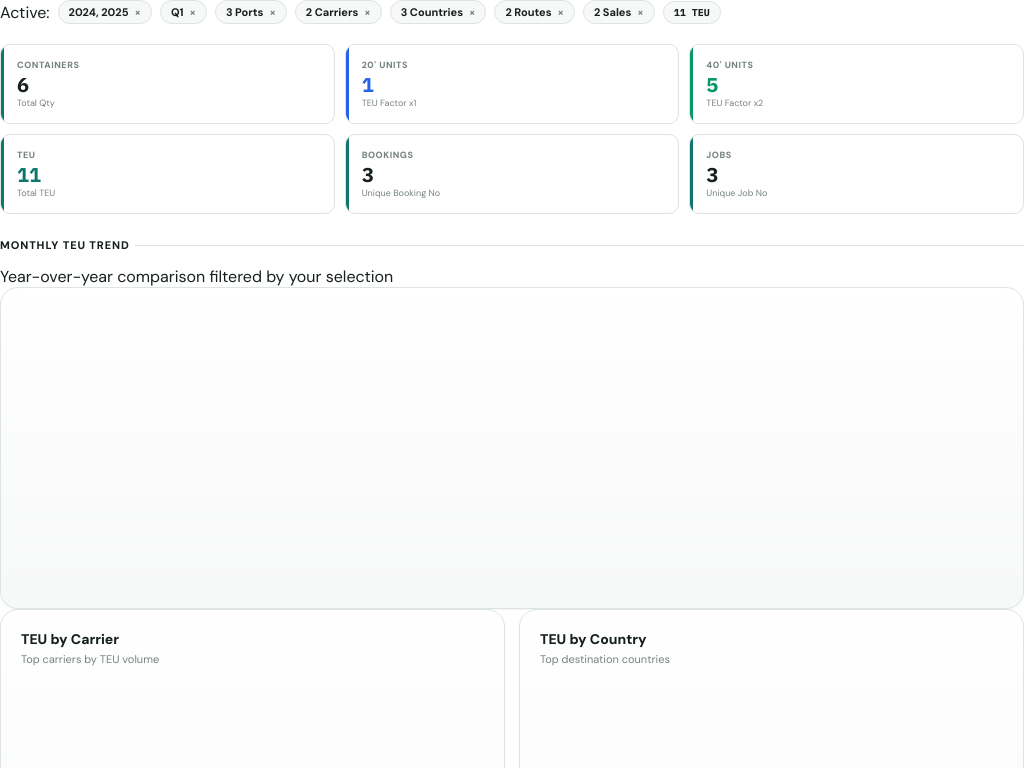
Scenario: AnalyticsPage › clears filter chips and switches ranking tabs
This screenshot has width=1024, height=768.
Click the button named "Clear year filter" at {"x": 138, "y": 12}, box [134, 5, 141, 19]
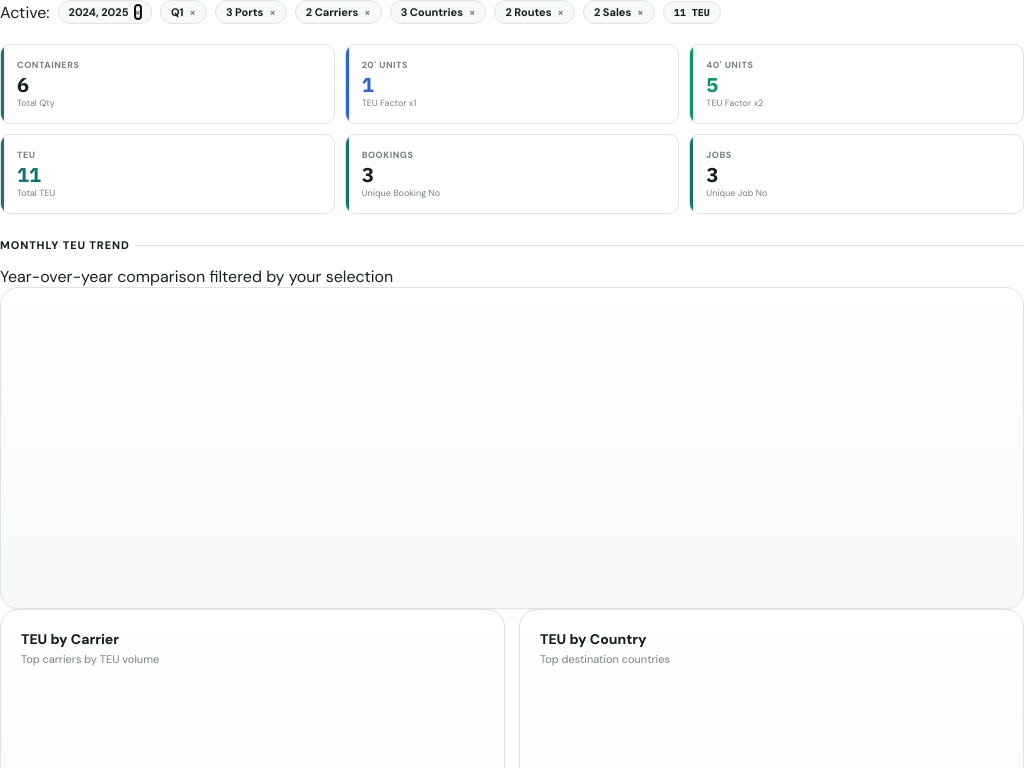
Click the button named "Clear quarter filter" at {"x": 193, "y": 12}, box [190, 5, 196, 19]
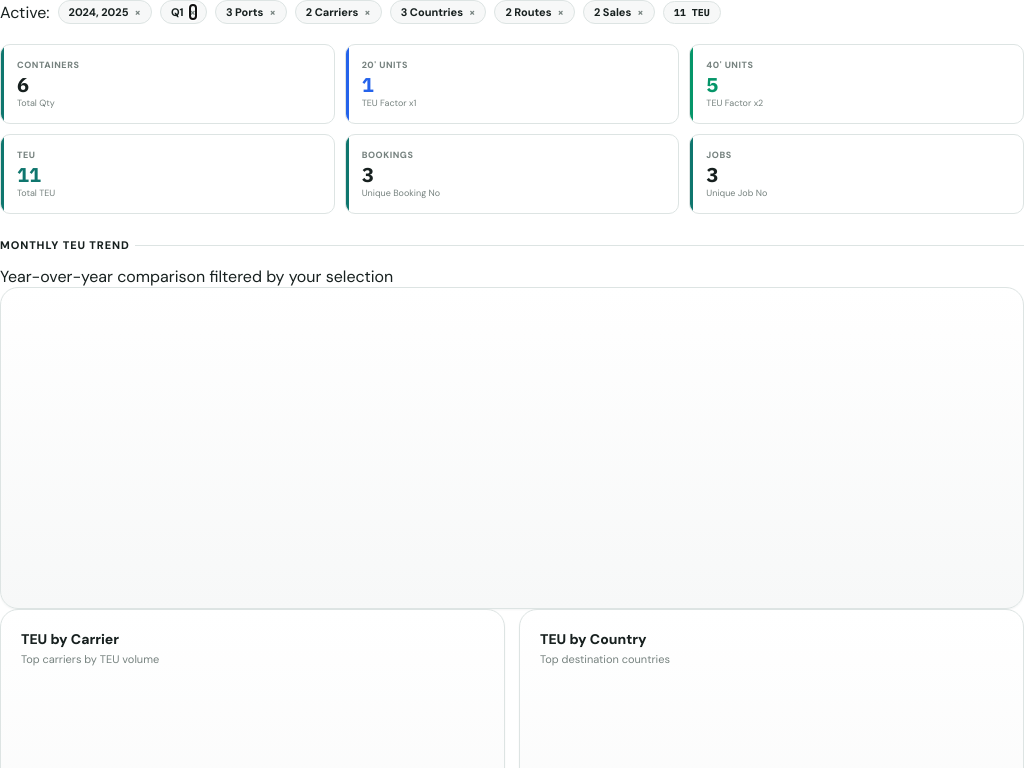
Click the button named "Clear port filter" at {"x": 273, "y": 12}, box [269, 5, 276, 19]
(page scrolled)
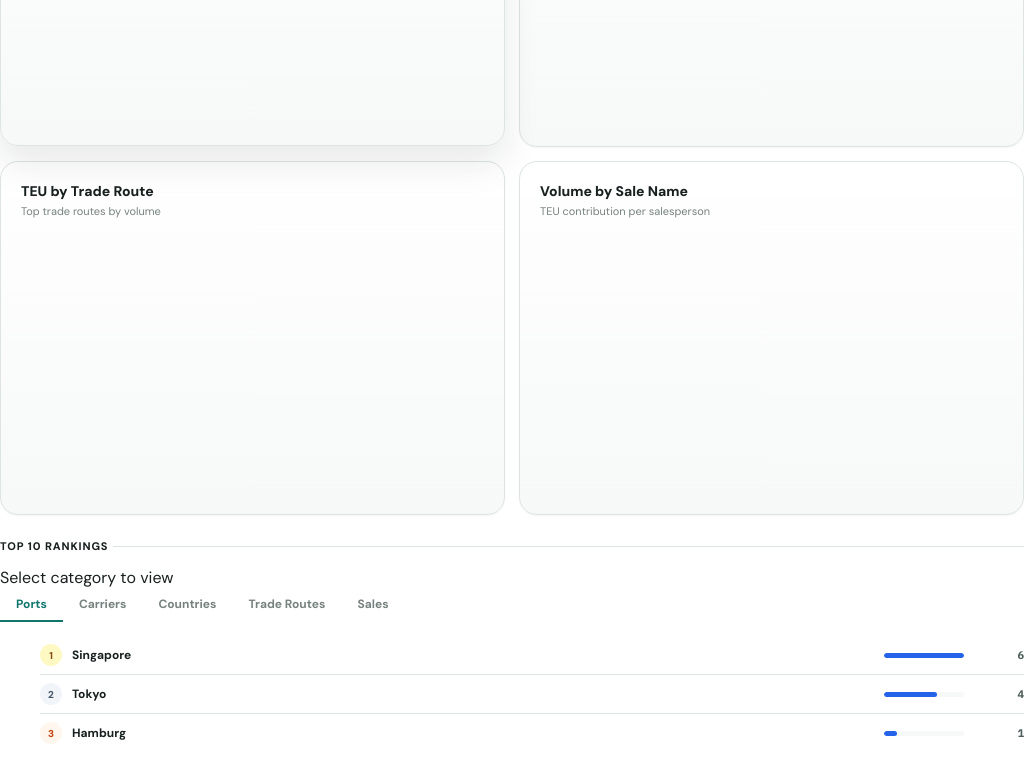
Click the button "Carriers" at {"x": 103, "y": 605}, box [63, 588, 142, 622]
(page scrolled)
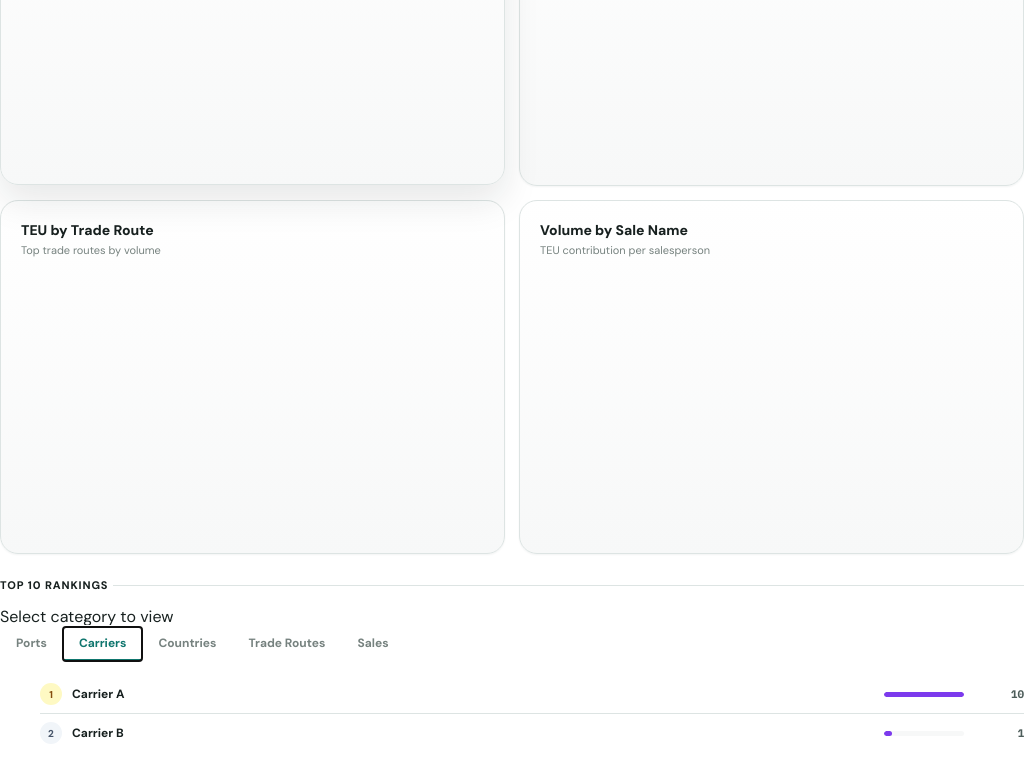
expect the text "Carrier A" is shown: met, box [72, 686, 124, 702]
Click the button "Sales" at {"x": 373, "y": 644}, box [341, 627, 404, 661]
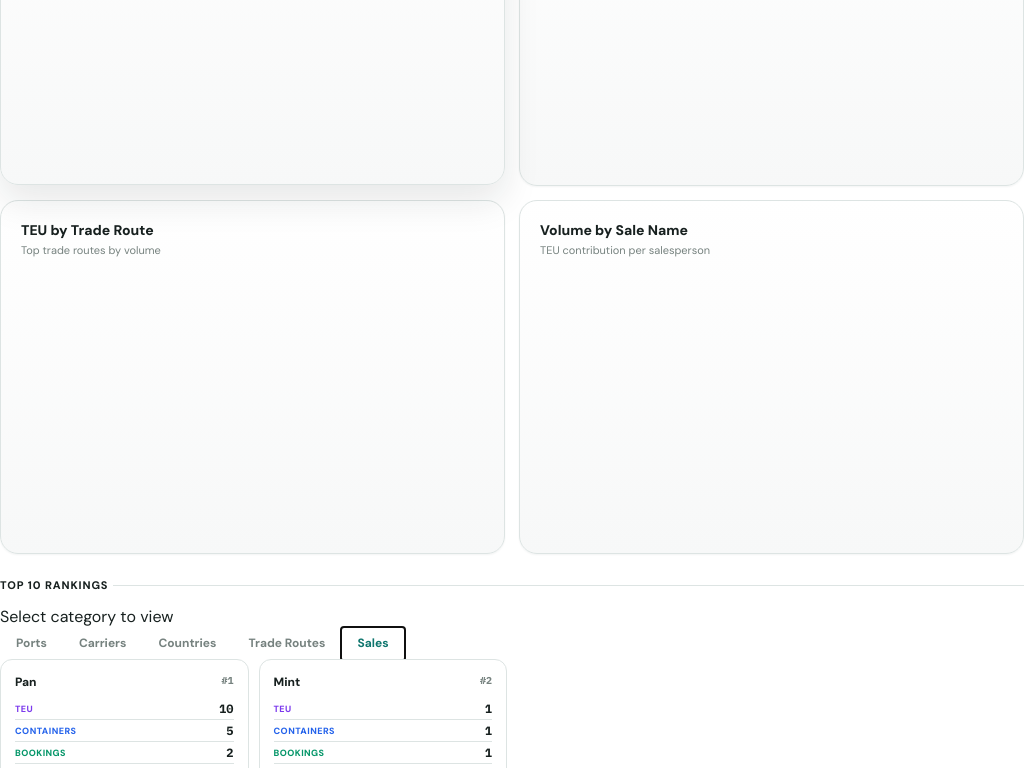
expect the text "Pan" is shown: met, box [15, 674, 36, 690]
